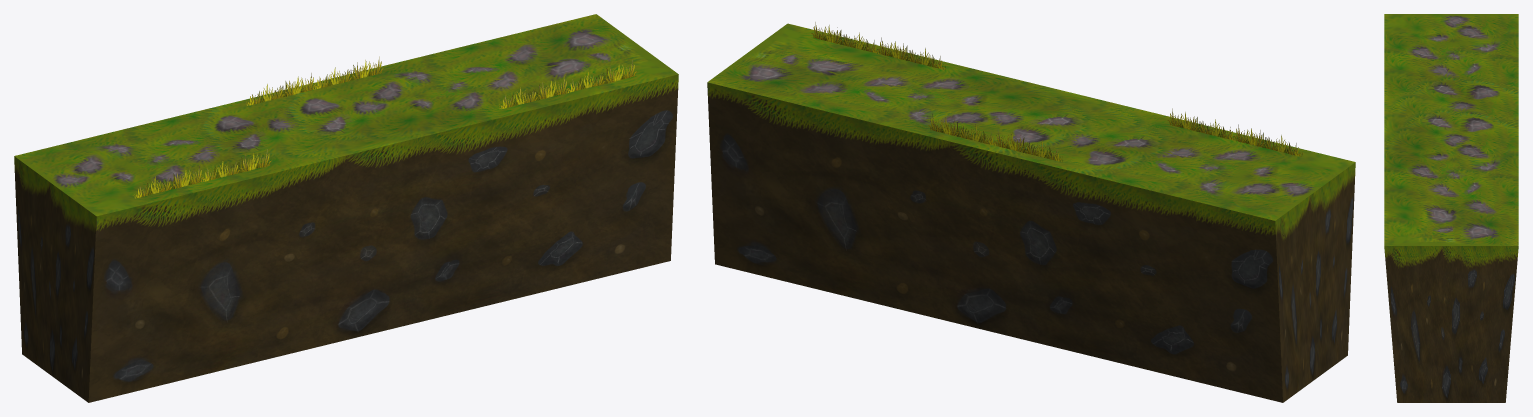
The model's file is platform_onder.fbx.
3 views of the same model, side by side, from view 1: azimuth 30°, elevation 25°; view 2: azimuth 150°, elevation 25°; view 3: azimuth 270°, elevation 25° (orthographic). The views are drawn at different scales.
Visible parts, largest first — view 1: Plane; view 2: Plane; view 3: Plane.
Boxes of the visible parts, x1=… form: Plane: x1=14, y1=14, x2=678, y2=402; Plane: x1=707, y1=22, x2=1355, y2=402; Plane: x1=1384, y1=14, x2=1518, y2=402.
Size of the model in its own units: 749 by 262 by 184.
1 material, 1 textured.
